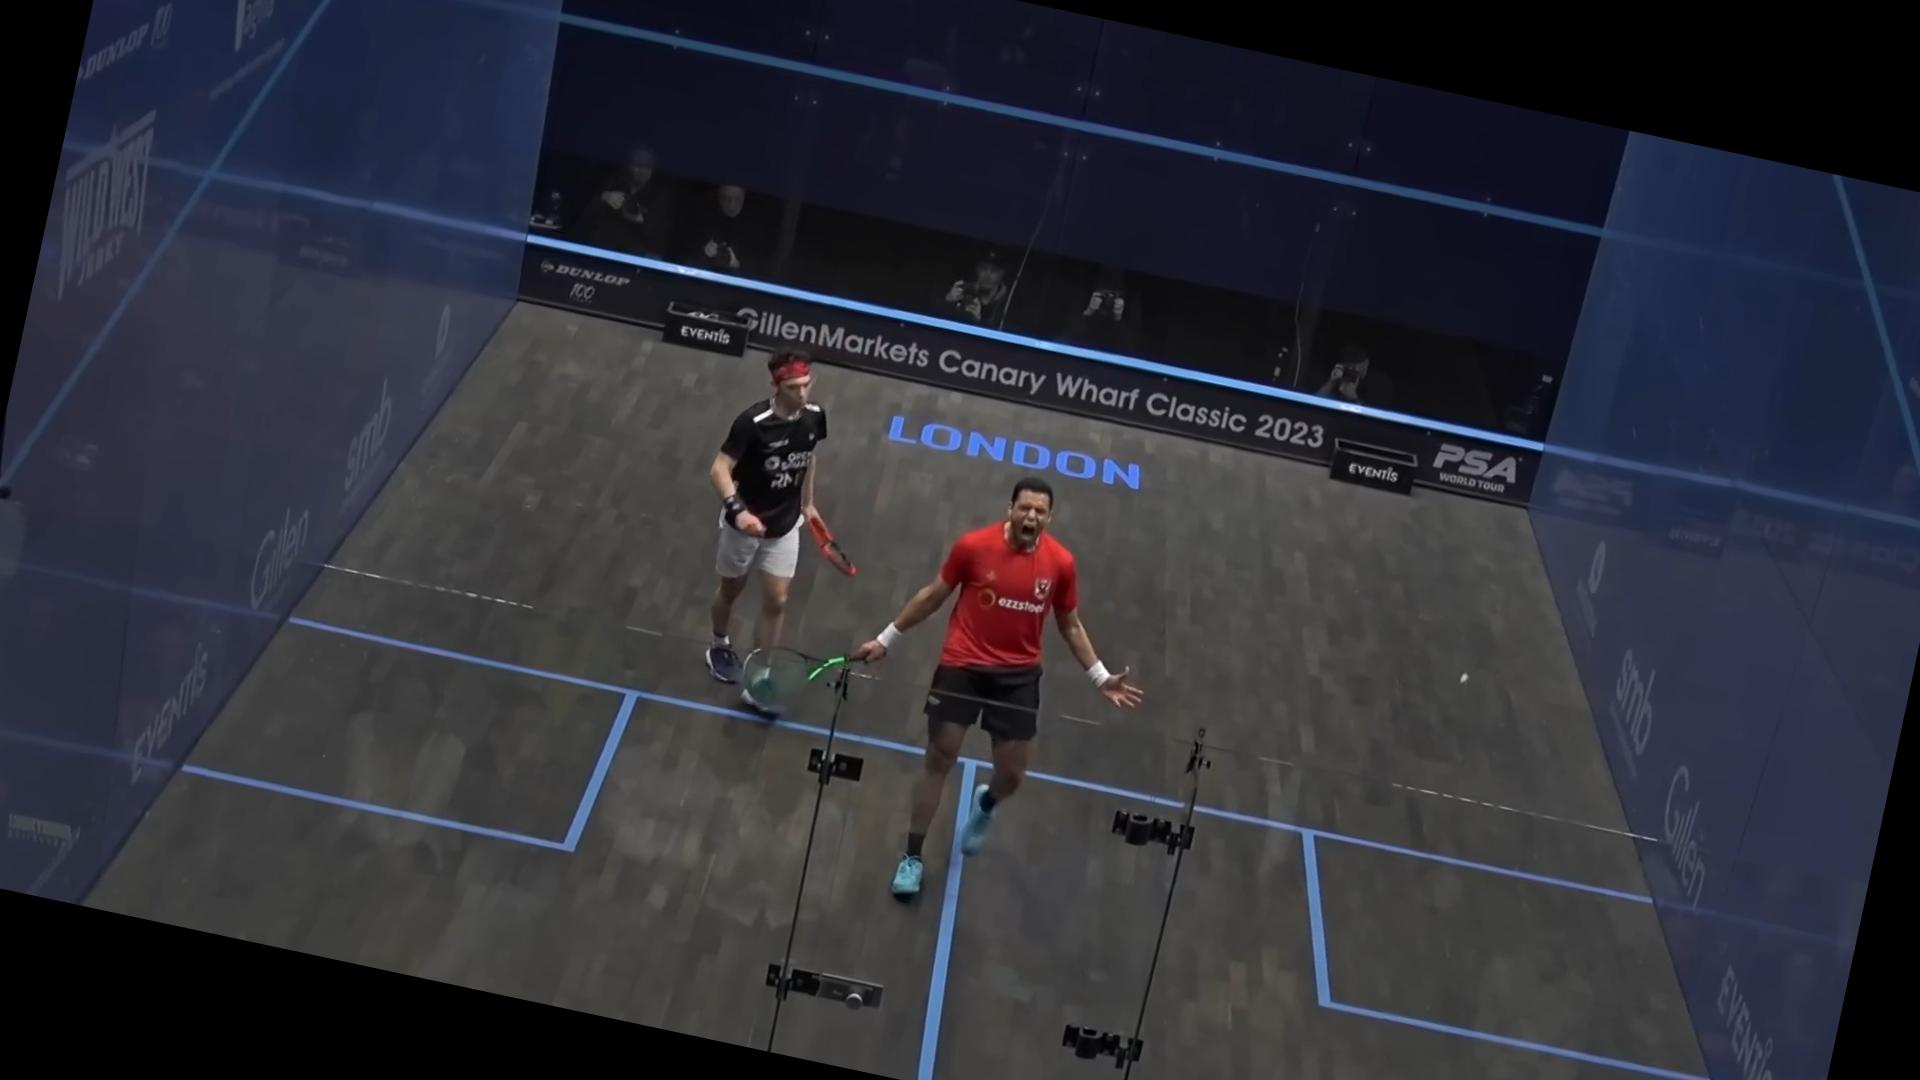Racket: (716, 625, 873, 741)
